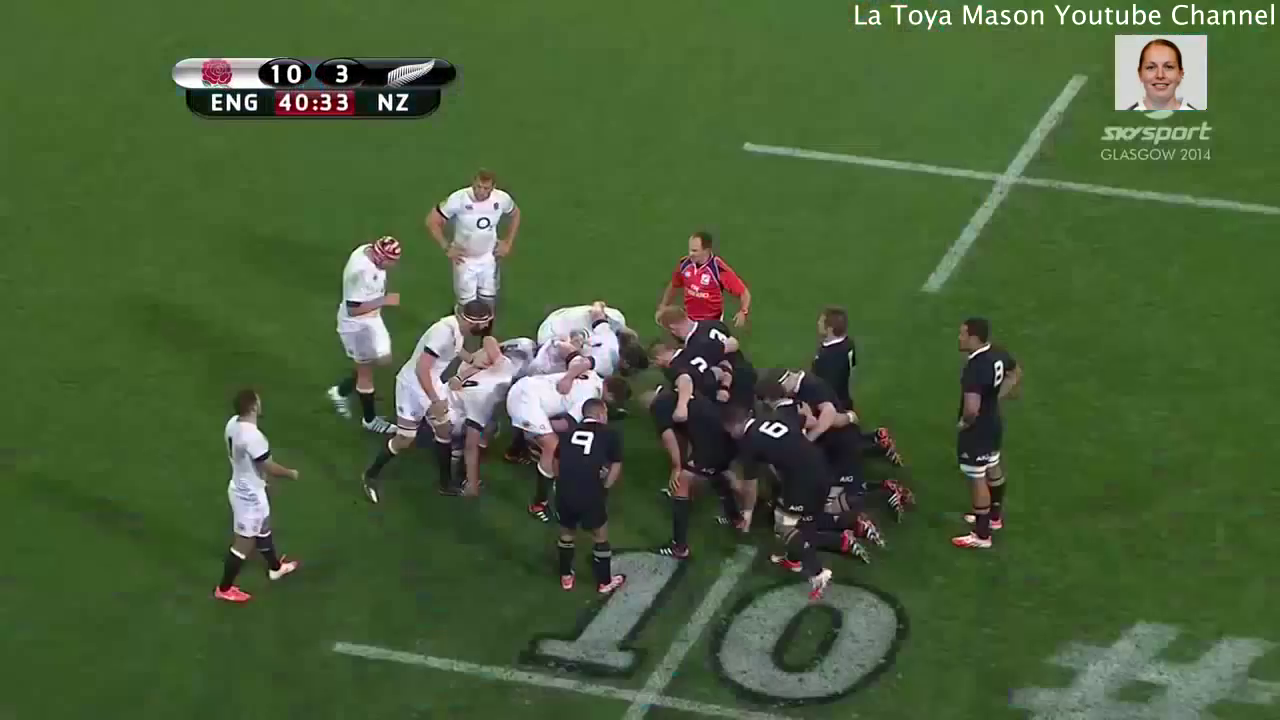10_metre: (717, 61, 1280, 309), (318, 537, 951, 720)
player: (349, 293, 497, 514), (709, 396, 854, 604), (209, 380, 313, 612), (495, 366, 634, 535), (528, 392, 634, 612), (936, 315, 1026, 559), (314, 225, 410, 443), (413, 153, 531, 324), (621, 381, 727, 565), (638, 220, 758, 340), (643, 290, 759, 388), (636, 328, 735, 432), (797, 301, 865, 387)
